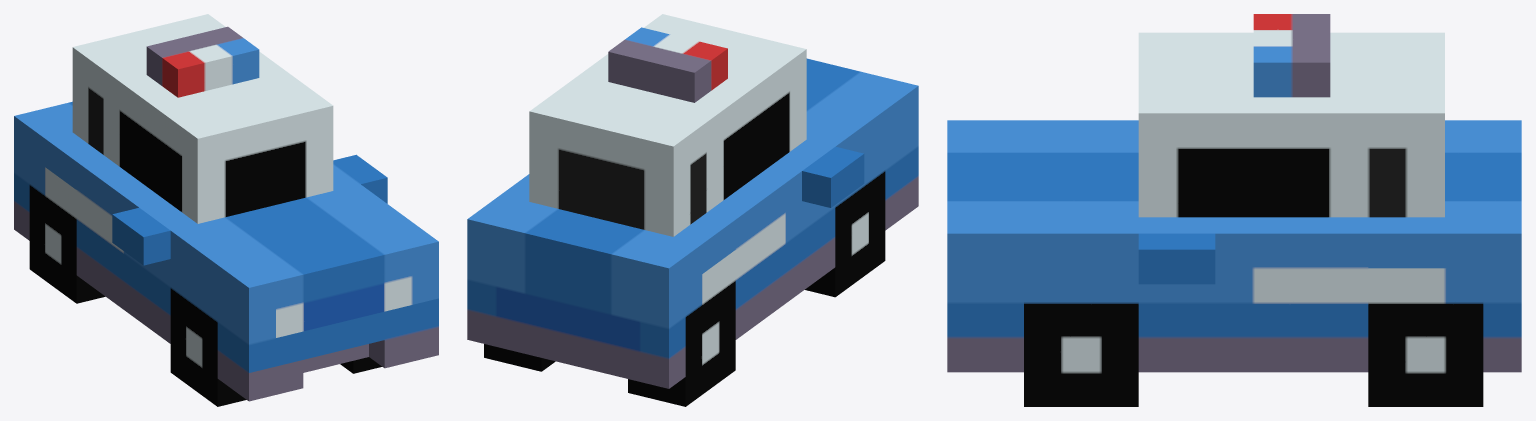
The model's file is police_car.obj.
3 renders of one model, left to right at view 1: azimuth 30°, elevation 25°; view 2: azimuth 150°, elevation 25°; view 3: azimuth 270°, elevation 25°, orthographic. The views are drawn at different scales.
Visible parts, largest first — view 1: police_car; view 2: police_car; view 3: police_car.
Boxes of the visible parts, x1,y1,x2,y2 form: police_car: [14, 14, 438, 406]; police_car: [467, 14, 918, 406]; police_car: [947, 14, 1521, 406].
Size of the model in its own units: 1.08 by 1.08 by 1.8.
1 material, 1 textured.
